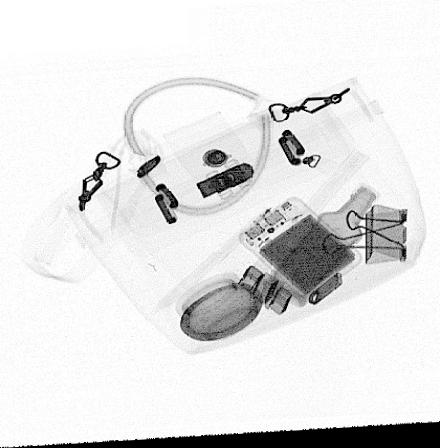Powerbank: (236, 200, 364, 305)
